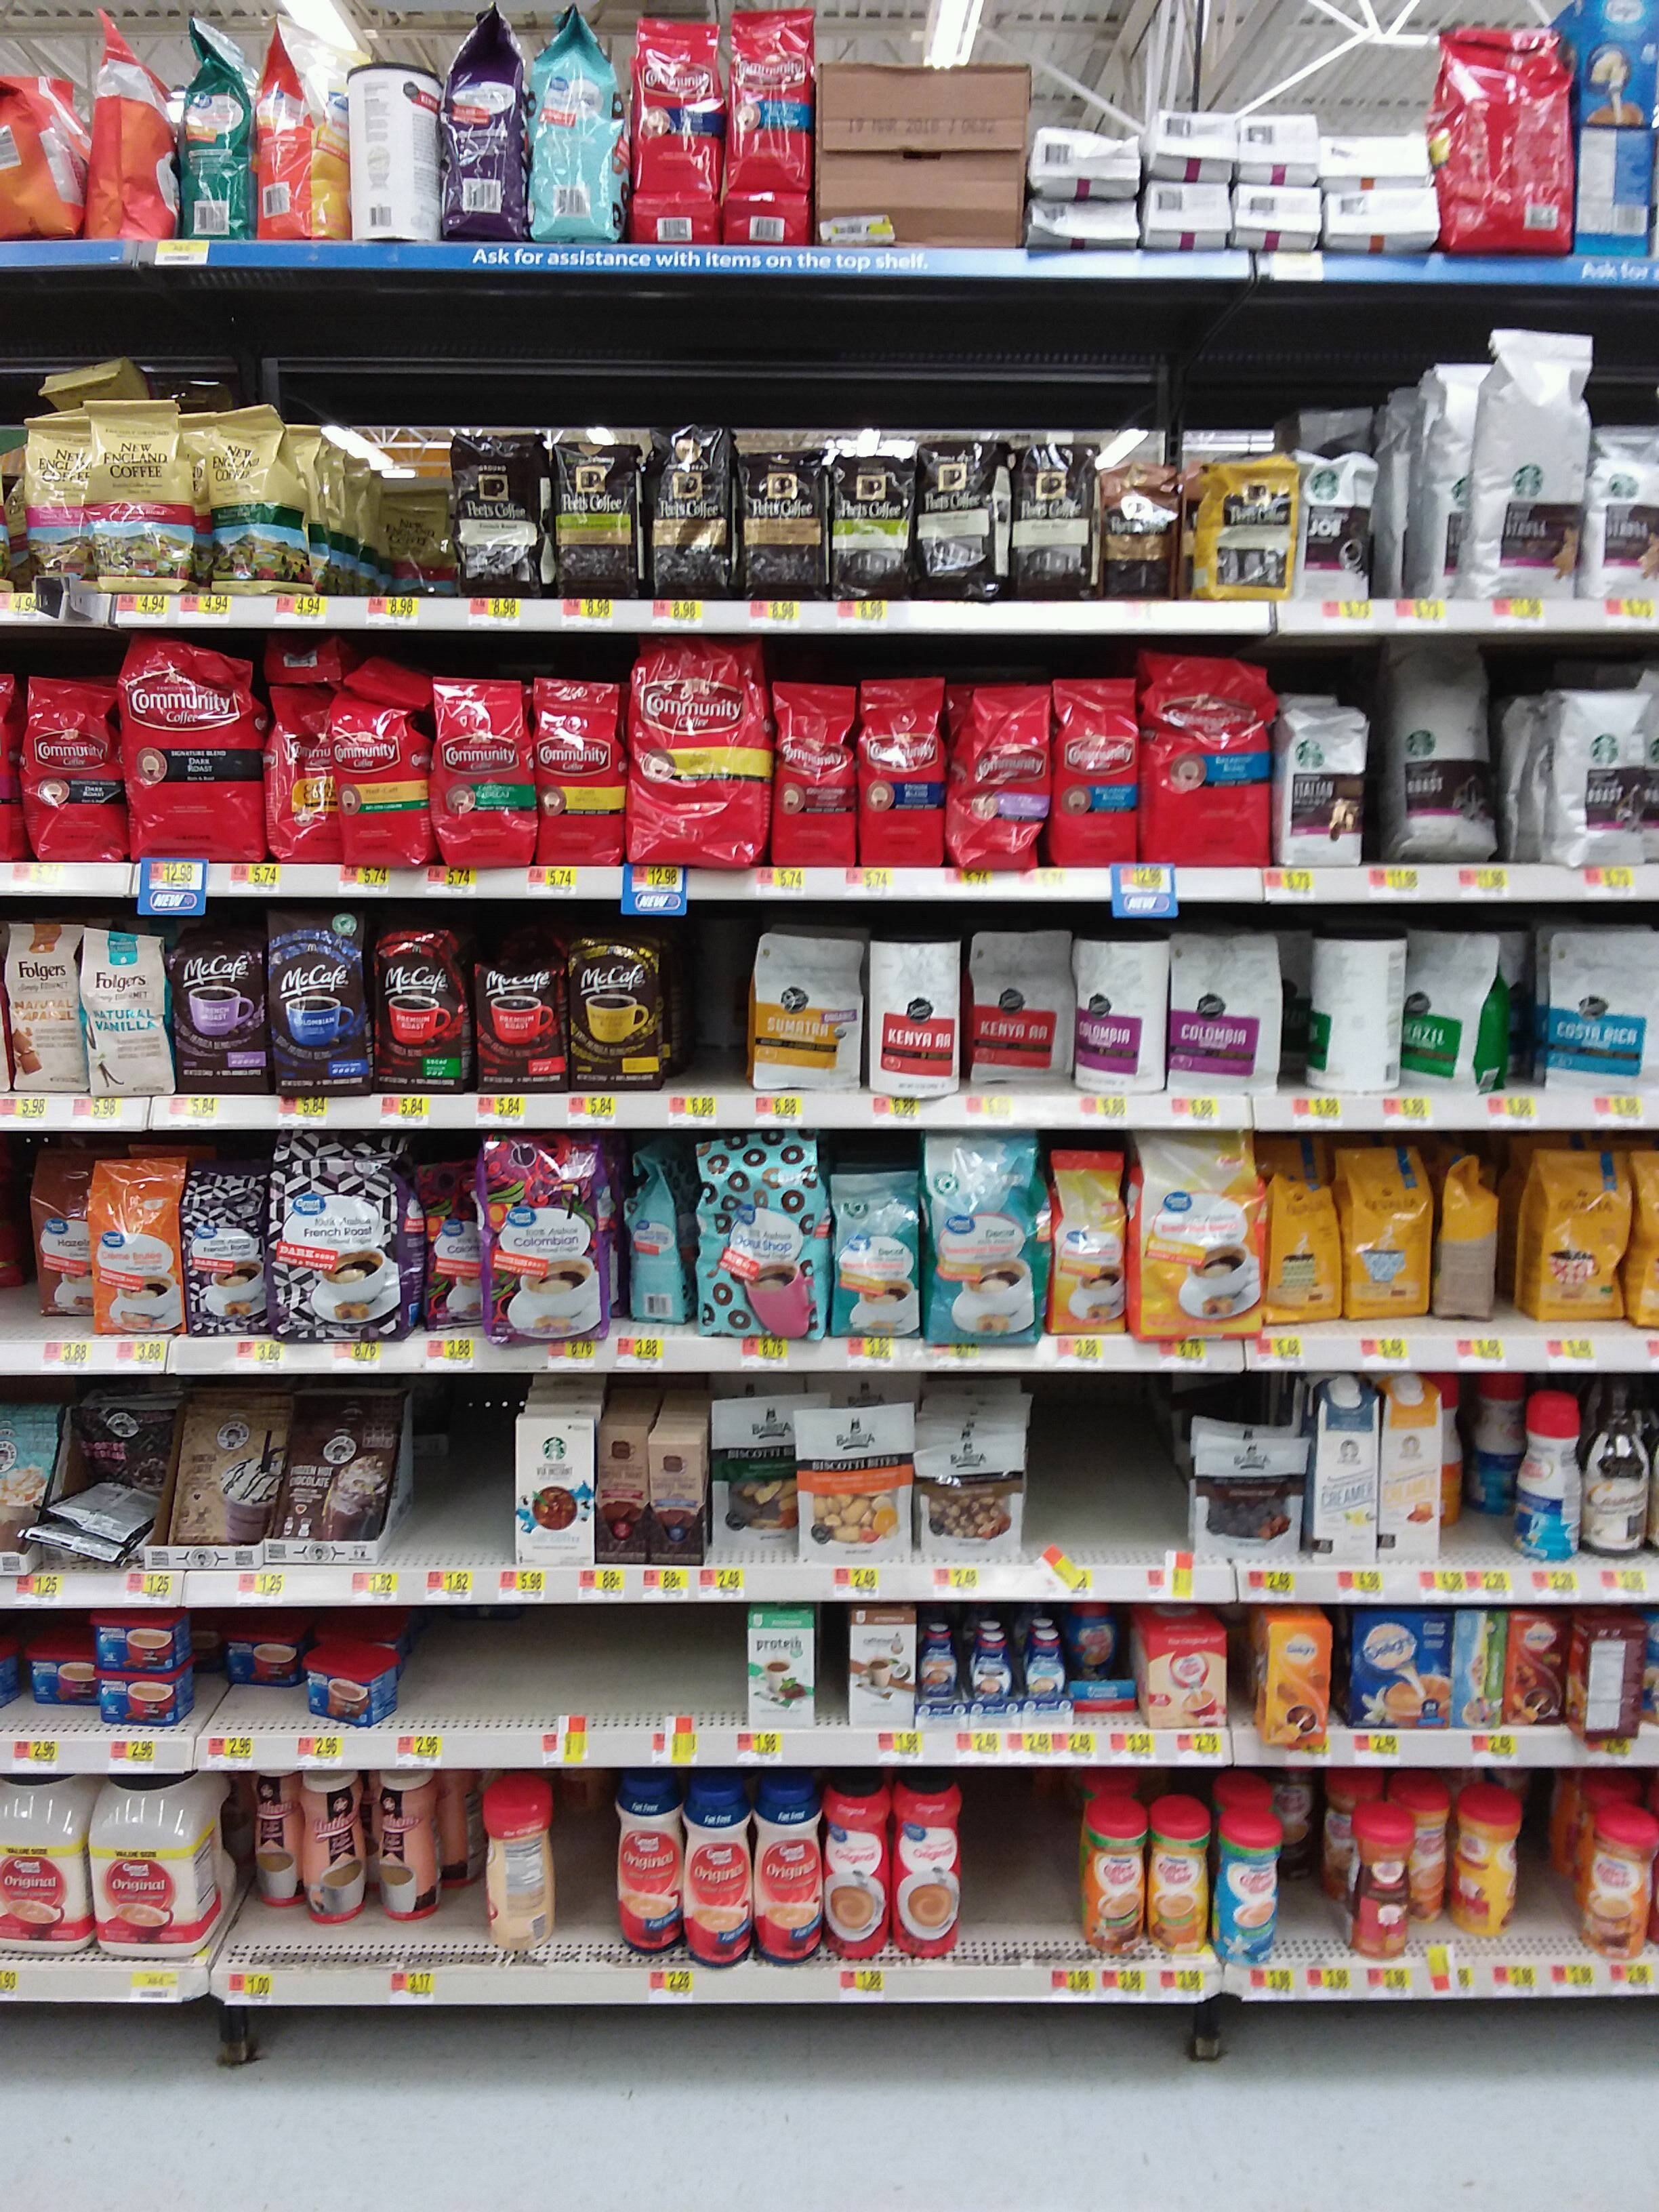Misplacement: (247, 1770, 467, 1970)
Out-of-stock: (1030, 1374, 1164, 1562)
